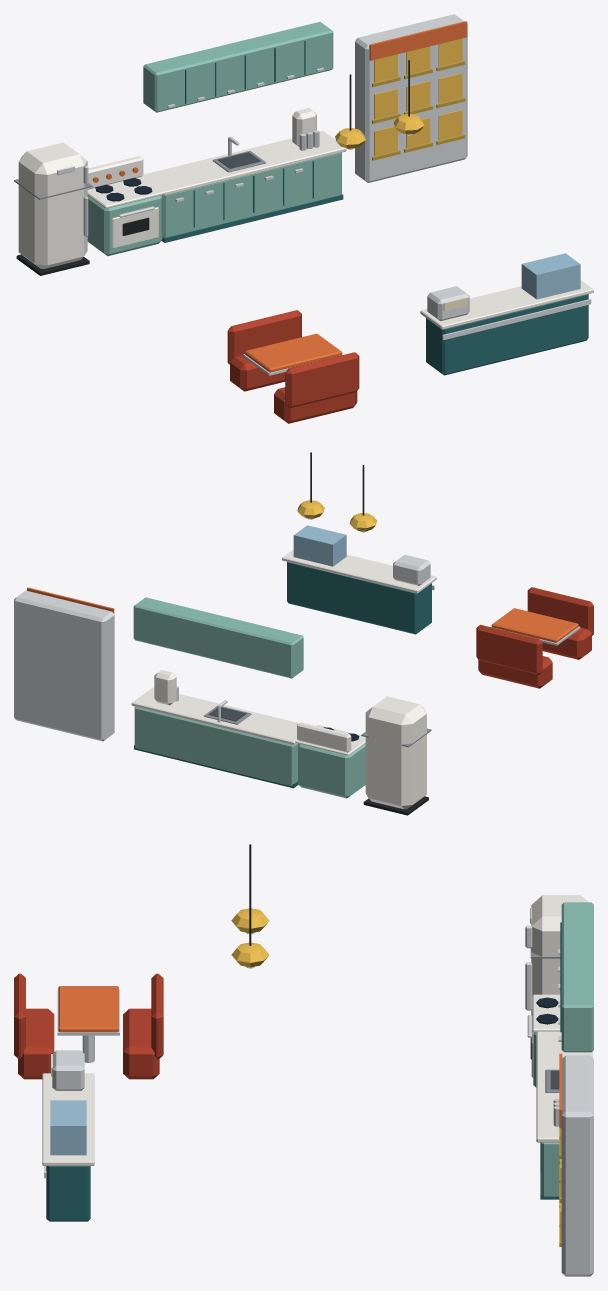
The model's file is Room_Kitchen_L3.fbx.
3 views of the same model, one above another, from view 1: azimuth 30°, elevation 25°; view 2: azimuth 150°, elevation 25°; view 3: azimuth 270°, elevation 25° (orthographic). The views are drawn at different scales.
Parts seen in each view (by area): view 1: Decor, Counter, Automat1, Fridge, ServeCounter1, Stove, DecorNeon, DecorGlass, BoothTable1, BoothSeat1, Decor_, BoothSeat2; view 2: Decor, Automat1, Counter, Fridge, ServeCounter1, Stove, DecorGlass, BoothTable1, BoothSeat2, Decor_, BoothSeat1; view 3: Decor, Automat1, Counter, Fridge, BoothTable1, ServeCounter1, BoothSeat2, BoothSeat1, DecorGlass, Decor_, Stove.
Part boxes in pixels (x1,y1,x2,y2): Decor: (143,21,593,408); Counter: (143,131,346,242); Automat1: (355,14,467,182); Fridge: (14,142,92,275); ServeCounter1: (426,294,588,375); Stove: (87,156,165,256); DecorNeon: (347,38,462,155); DecorGlass: (521,253,580,299); BoothTable1: (245,333,342,372); BoothSeat1: (274,387,357,423); Decor_: (335,60,424,148); BoothSeat2: (230,355,285,391); Decor: (27,549,593,705); Automat1: (14,590,114,741); Counter: (131,687,298,788); Fridge: (361,696,431,815); ServeCounter1: (287,562,431,634); Stove: (295,722,365,798); DecorGlass: (293,525,346,566); BoothTable1: (491,608,578,642); BoothSeat2: (478,656,552,688); Decor_: (297,452,377,531); BoothSeat1: (542,627,591,659); Decor: (14,902,593,1246); Automat1: (561,1055,593,1276); Counter: (536,1031,592,1199); Fridge: (525,895,588,1015); BoothTable1: (58,986,118,1032); ServeCounter1: (46,1166,90,1221); BoothSeat2: (123,1008,159,1079); BoothSeat1: (18,1008,54,1079); DecorGlass: (50,1100,86,1155); Decor_: (231,844,269,967); Stove: (527,994,560,1087).
Bounding box in the file's own units: 30.21 × 15.76 × 28.7.
